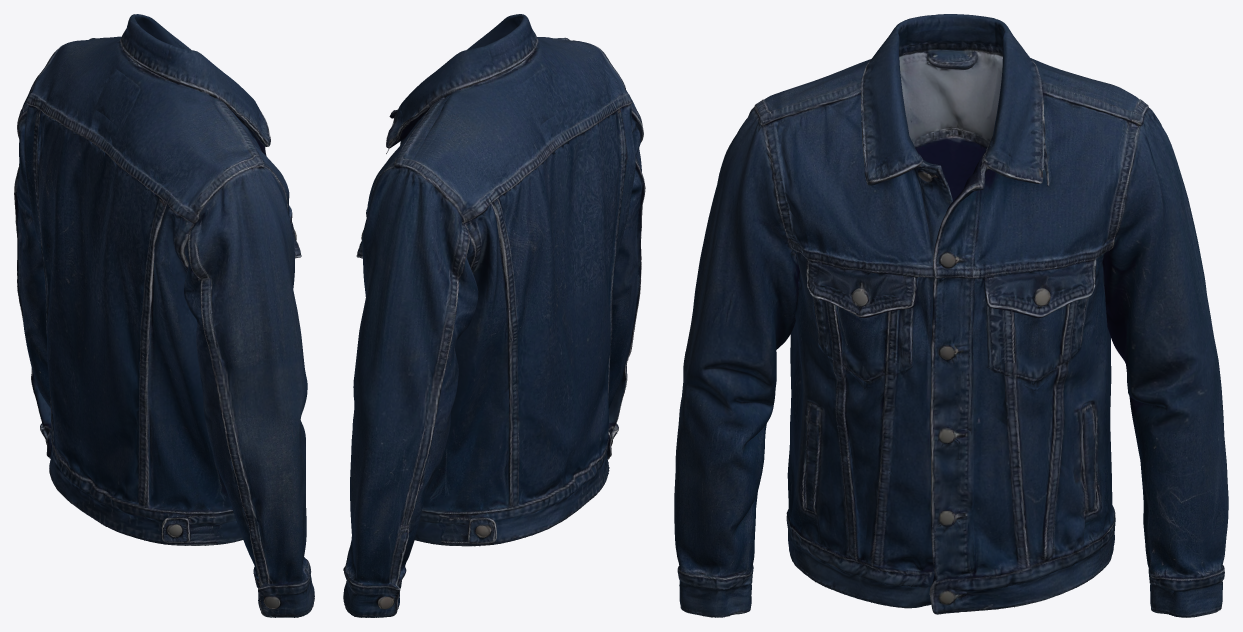
File: CHAQUETA-DE-JEAN.glb
3 renders of one model, left to right at view 1: azimuth 30°, elevation 25°; view 2: azimuth 150°, elevation 25°; view 3: azimuth 270°, elevation 25°, orthographic. The views are drawn at different scales.
Visible parts, largest first — view 1: tripo_node_2893f278-1af3-42c3-810b-0b108748f879; view 2: tripo_node_2893f278-1af3-42c3-810b-0b108748f879; view 3: tripo_node_2893f278-1af3-42c3-810b-0b108748f879.
Part boxes in pixels (x1,y1,x2,y2): tripo_node_2893f278-1af3-42c3-810b-0b108748f879: [14, 14, 314, 617]; tripo_node_2893f278-1af3-42c3-810b-0b108748f879: [343, 14, 645, 617]; tripo_node_2893f278-1af3-42c3-810b-0b108748f879: [674, 14, 1228, 617].
Bounding box in the file's own units: 0.4014 × 0.9808 × 0.8544.
Materials: 1 (1 with a texture image).
